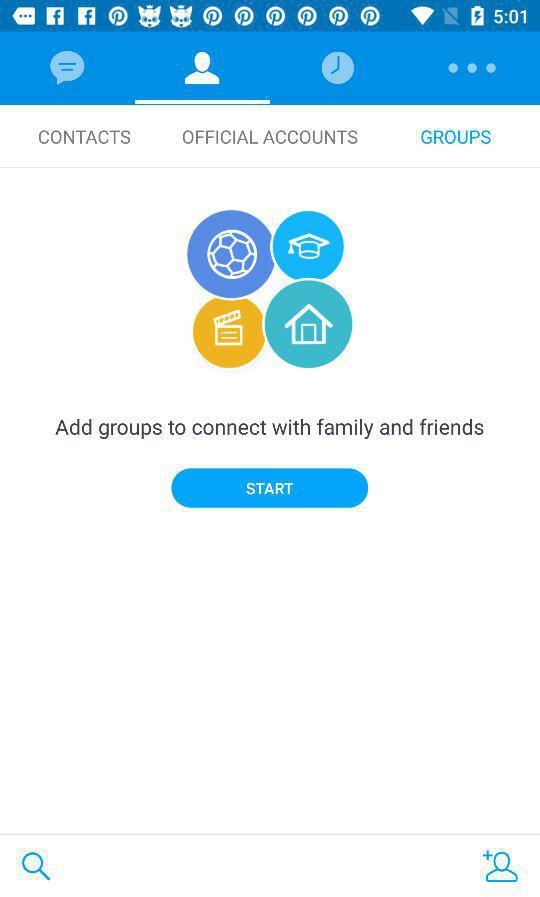Icon: (50, 51, 86, 87), (482, 849, 519, 883), (184, 52, 220, 86), (22, 851, 52, 881), (447, 62, 497, 75)
Image: (187, 210, 354, 370), (321, 52, 355, 86)
Multi_Tab: (1, 33, 540, 107)
Text: (56, 418, 484, 440), (182, 129, 358, 145), (40, 130, 132, 146), (420, 129, 491, 145)
TextButton: (172, 468, 370, 509)
UpperTaskBar: (1, 1, 540, 33)
